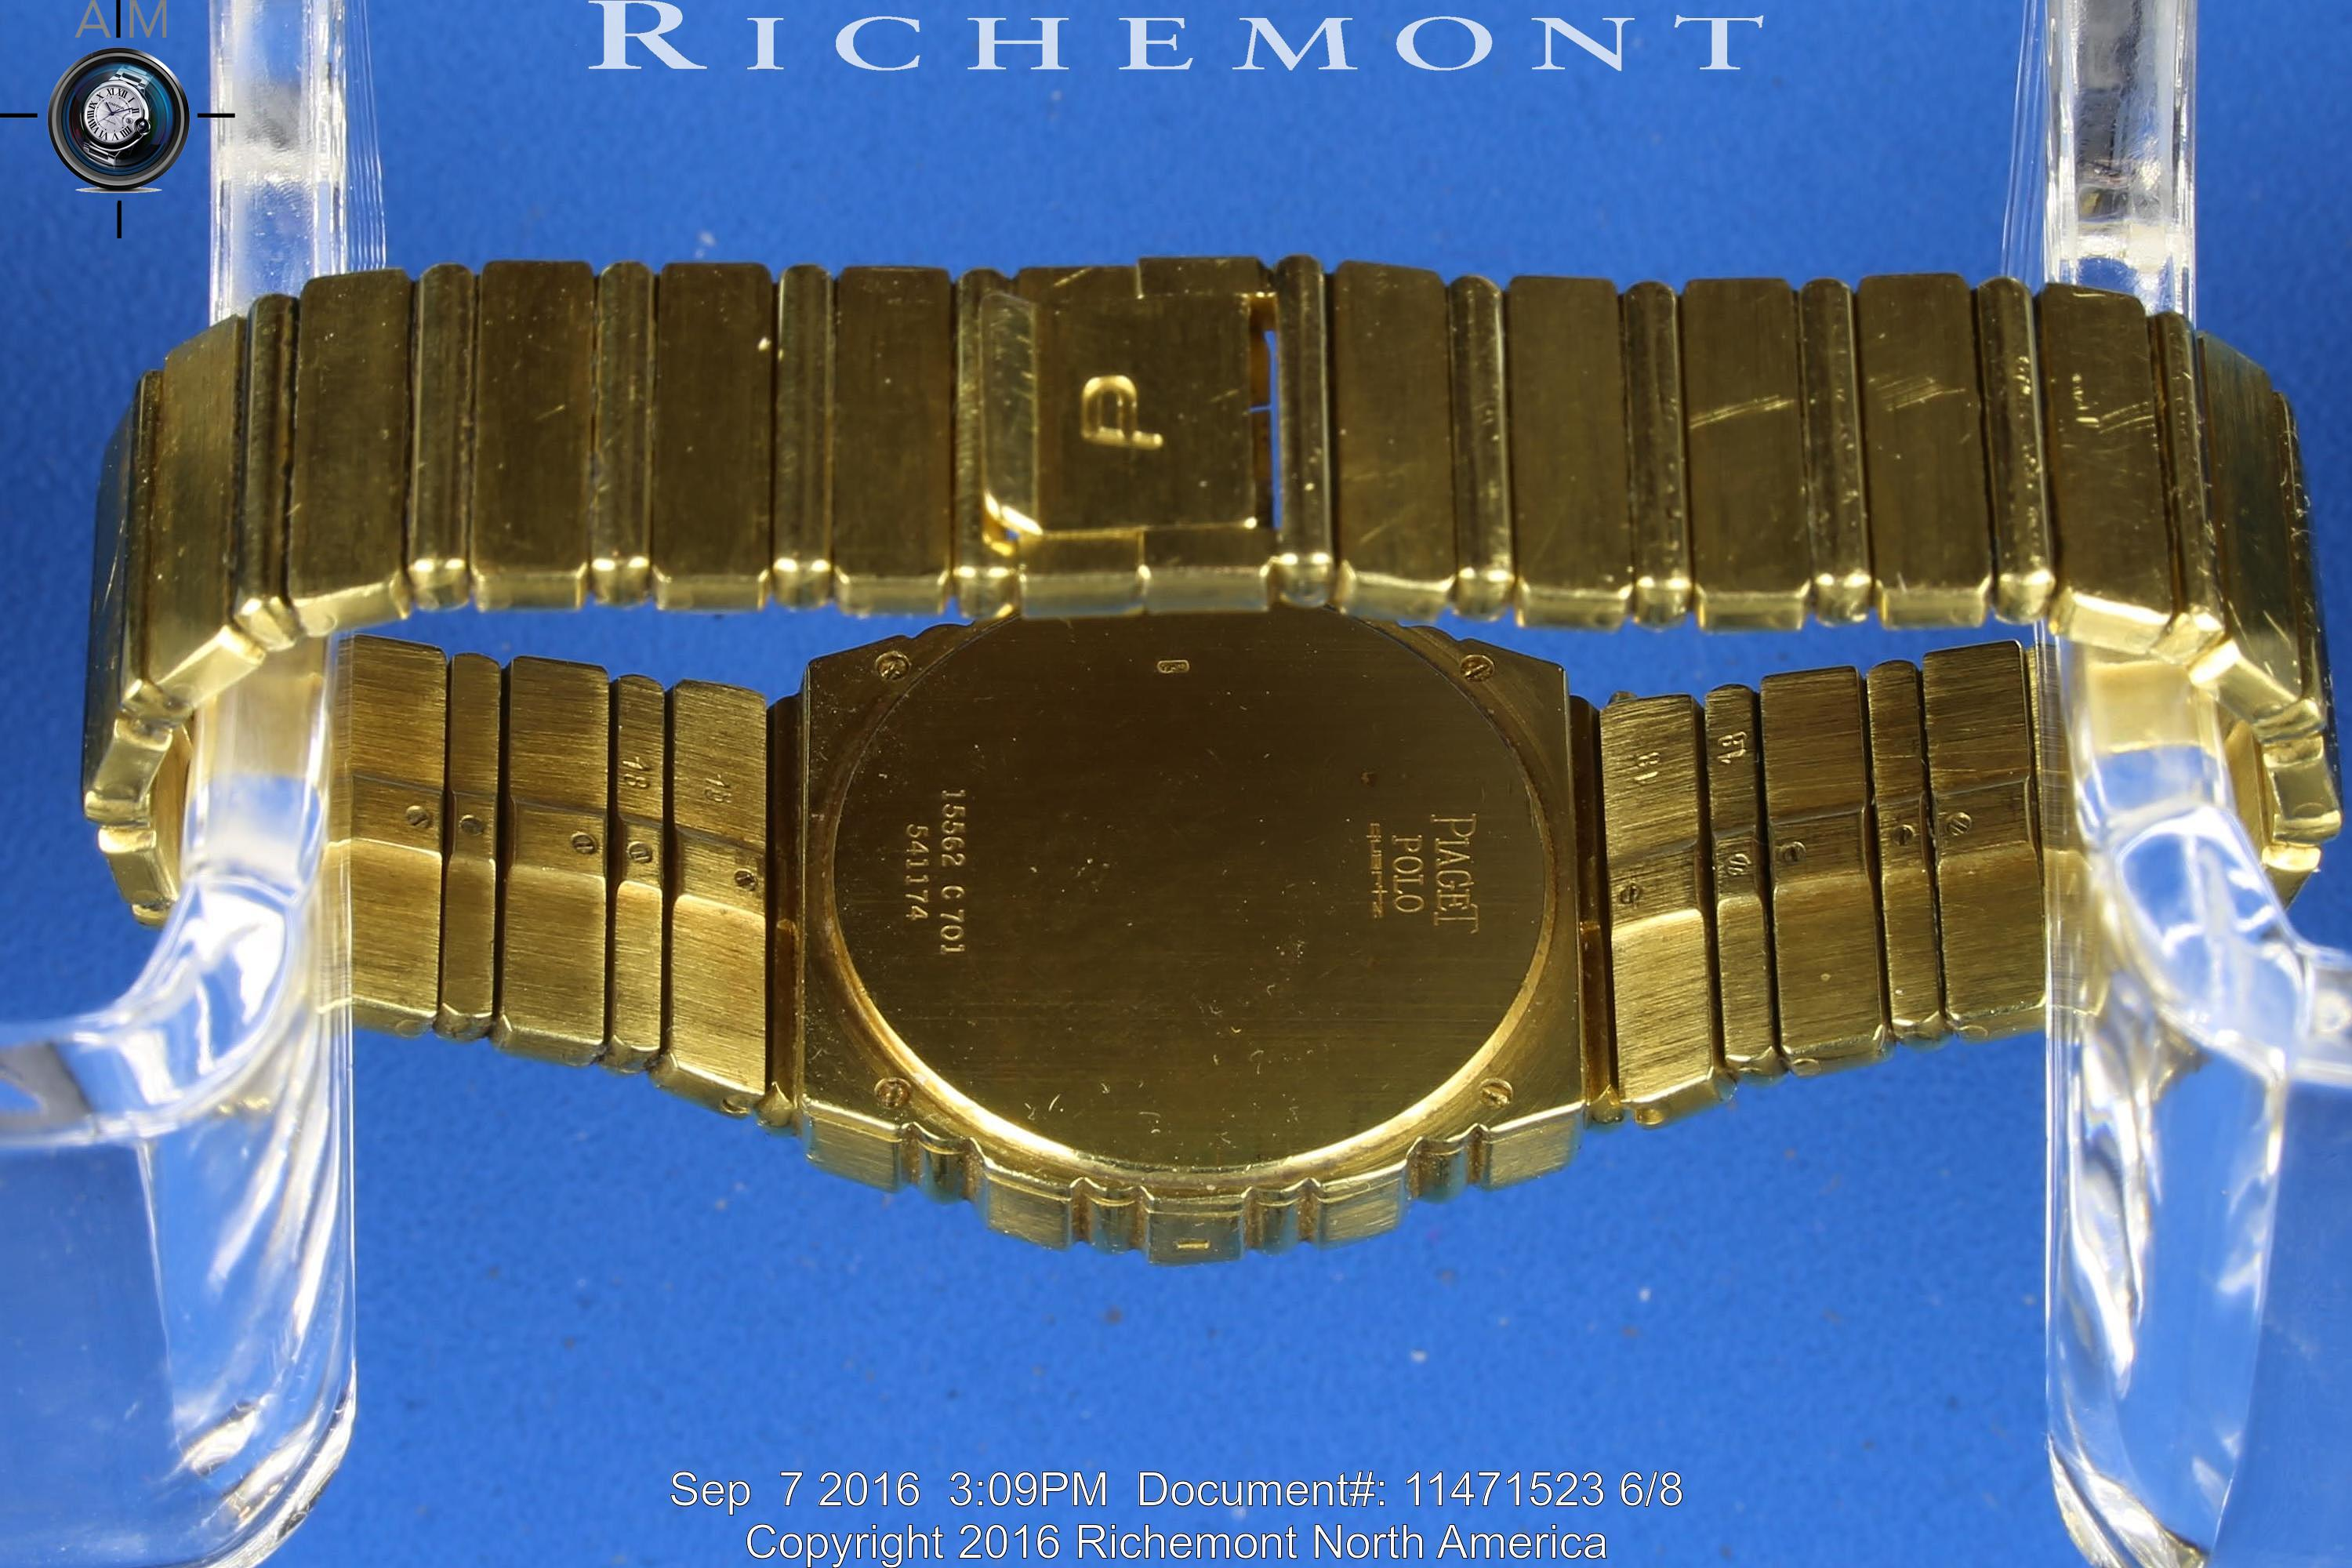Watch BackCase: (791, 619, 1603, 1267)
